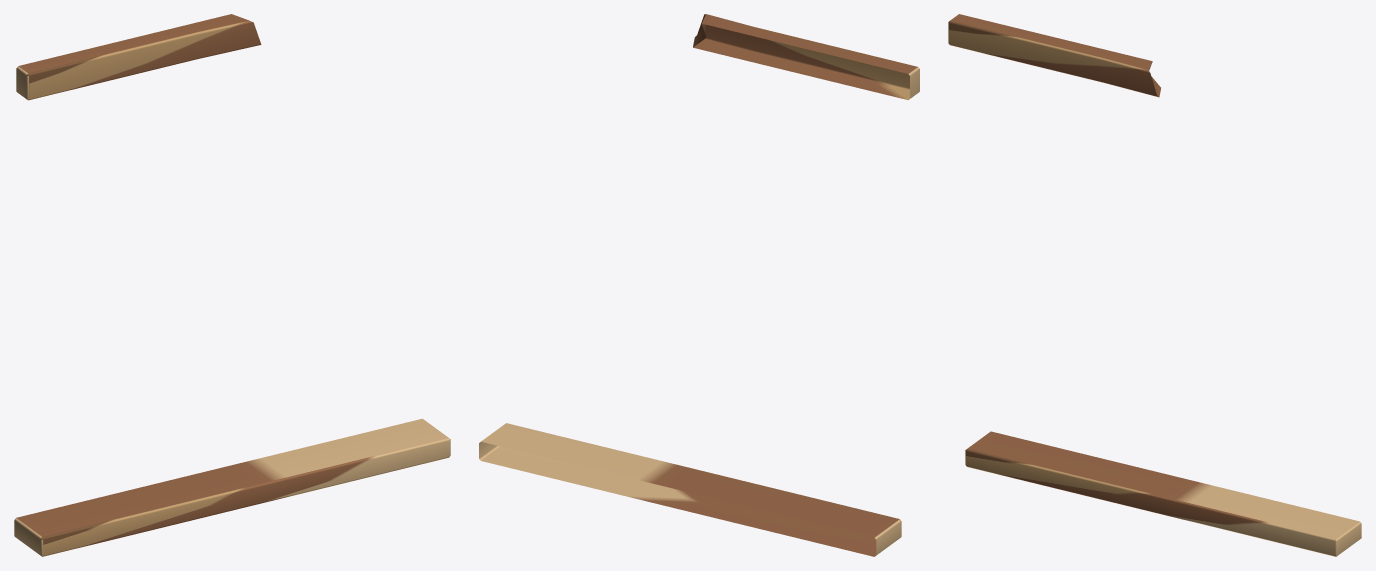
Rendered from DBK_WinBig_Trim_D_90.fbx.
The picture shows the model from 3 angles, left to right: view 1: azimuth 30°, elevation 25°; view 2: azimuth 150°, elevation 25°; view 3: azimuth 330°, elevation 25°; orthographic projection. The views are drawn at different scales.
Visible parts, largest first — view 1: DBK_WinBig_Trim_D_90; view 2: DBK_WinBig_Trim_D_90; view 3: DBK_WinBig_Trim_D_90.
Boxes of the visible parts, <box> form: DBK_WinBig_Trim_D_90: <box>14,14,450,556</box>; DBK_WinBig_Trim_D_90: <box>479,14,919,556</box>; DBK_WinBig_Trim_D_90: <box>948,14,1361,556</box>.
Bounding box in the file's own units: 212 × 232 × 26.6.
